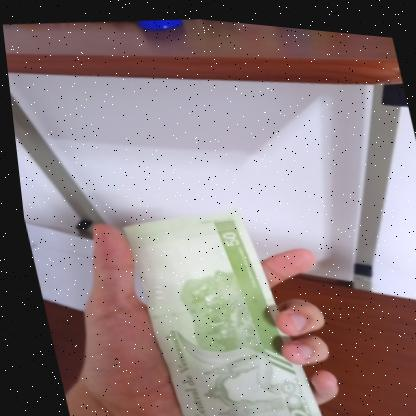fifty-back-vef: (111, 192, 320, 416)
